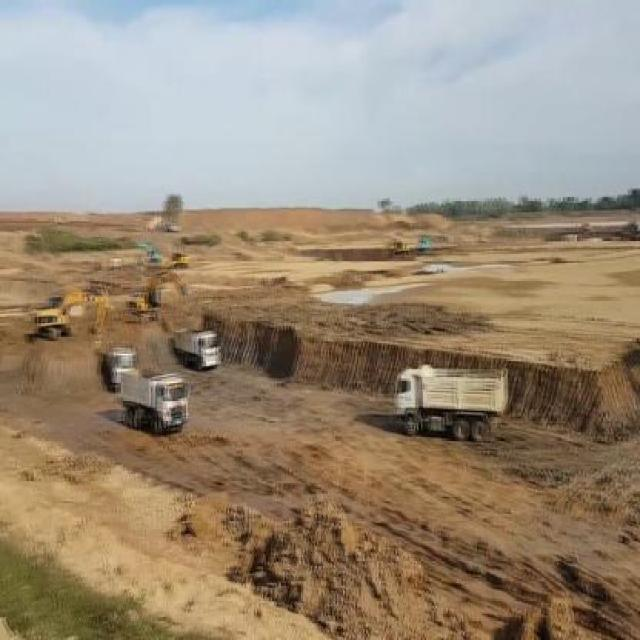dump_truck: (392, 363, 510, 439), (117, 362, 191, 436), (172, 322, 218, 372)
excavator: (33, 291, 109, 354), (126, 268, 185, 322)
